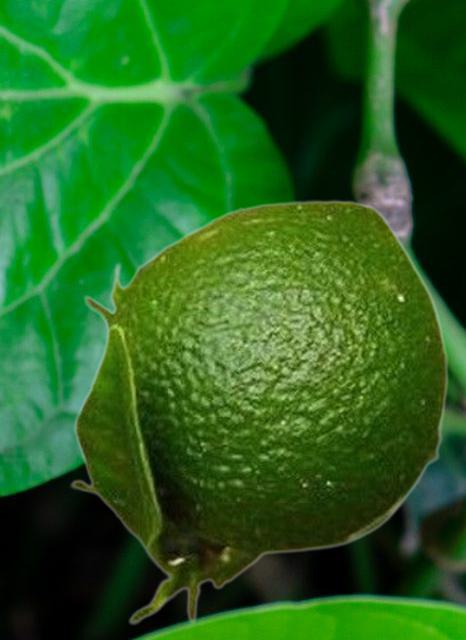dalandan: (68, 199, 448, 625)
